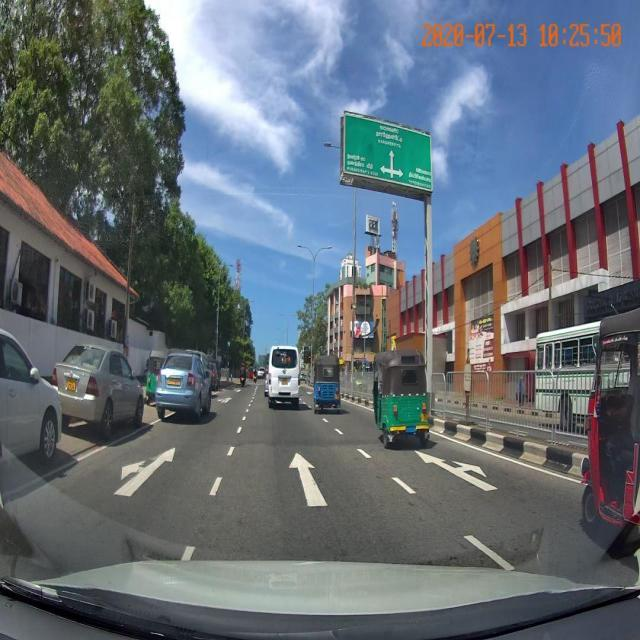Liniya 1: (3, 420, 162, 500), (430, 430, 580, 485), (462, 534, 520, 572), (390, 474, 417, 496), (208, 475, 224, 498), (355, 448, 374, 460), (226, 446, 235, 457), (236, 425, 243, 435), (242, 415, 247, 420)
Strelka vpered: (287, 450, 330, 511)
Strelka vpered - vlevo: (111, 445, 177, 500), (217, 397, 232, 403)
Strelka vpered - vpravo: (411, 447, 502, 493)
